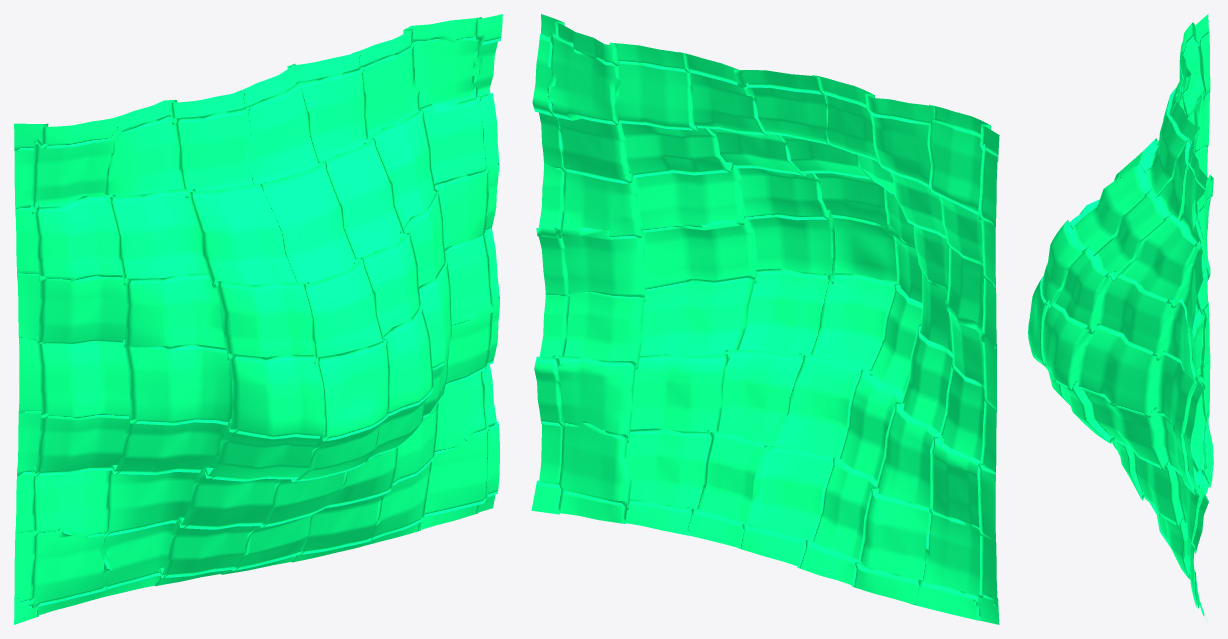
File: diffusion_heat_equation_ar_universal.glb
3 views of the same model, side by side, from view 1: azimuth 30°, elevation 25°; view 2: azimuth 150°, elevation 25°; view 3: azimuth 270°, elevation 25° (orthographic). The views are drawn at different scales.
Parts seen in each view (by area): view 1: diffusion_heat_equation_ar; view 2: diffusion_heat_equation_ar; view 3: diffusion_heat_equation_ar.
Part boxes in pixels (left/top/right/bottom): diffusion_heat_equation_ar: left=14, top=14, right=502, bottom=624; diffusion_heat_equation_ar: left=531, top=14, right=999, bottom=624; diffusion_heat_equation_ar: left=1028, top=14, right=1213, bottom=620.
Size of the model in its own units: 1 by 1 by 0.404.
